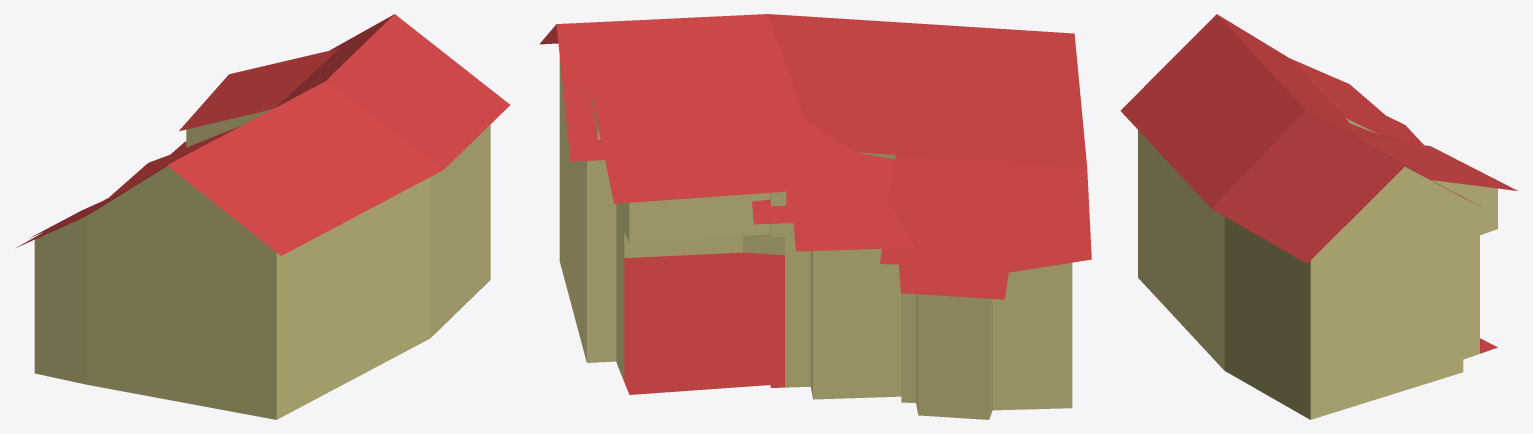
3 renders of one model, left to right at view 1: azimuth 30°, elevation 25°; view 2: azimuth 150°, elevation 25°; view 3: azimuth 270°, elevation 25°, orthographic. The views are drawn at different scales.
Size of the model in its own units: 27 by 20.48 by 13.14.
